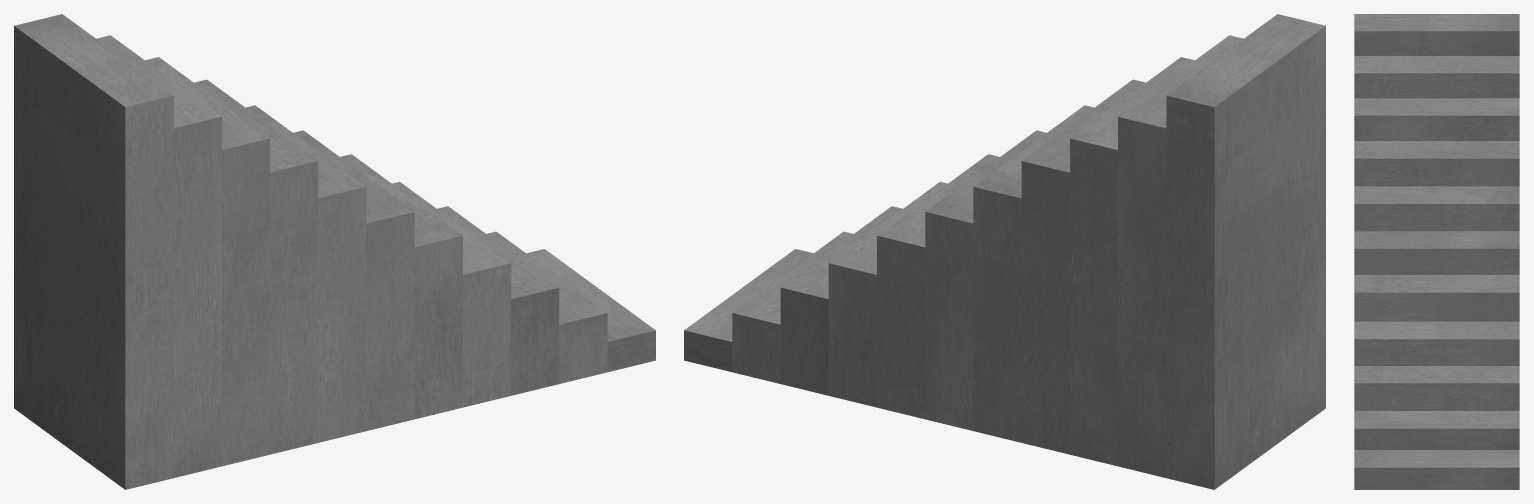
File: Stairs.fbx
3 renders of one model, left to right at view 1: azimuth 30°, elevation 25°; view 2: azimuth 150°, elevation 25°; view 3: azimuth 270°, elevation 25°, orthographic. The views are drawn at different scales.
Parts seen in each view (by area): view 1: Stairs; view 2: Stairs; view 3: Stairs.
Boxes of the visible parts, left/top/right/bottom form: Stairs: left=14, top=14, right=655, bottom=489; Stairs: left=684, top=14, right=1325, bottom=489; Stairs: left=1354, top=14, right=1519, bottom=489.
Size of the model in its own units: 550 by 379 by 200.
